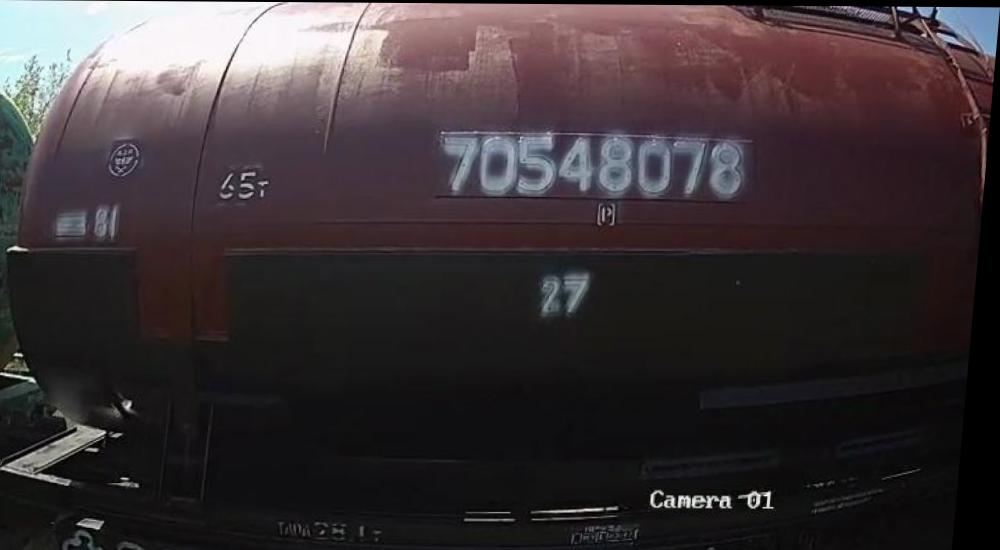Wagon-number: (440, 128, 753, 203)
